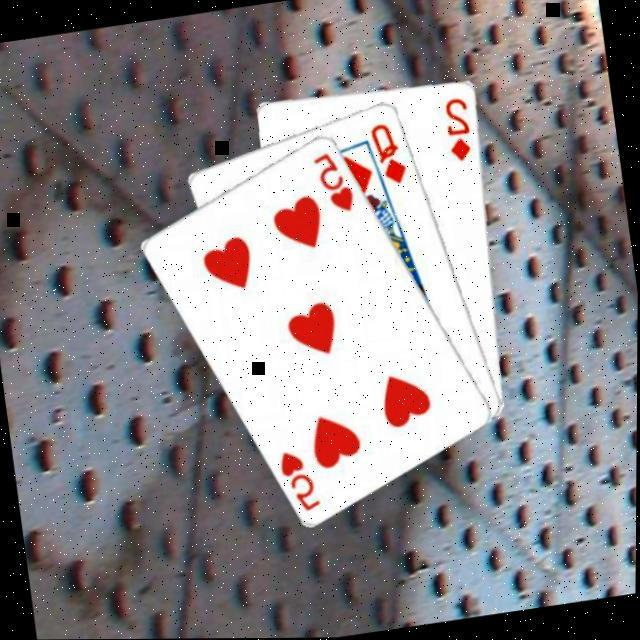2D: (443, 94, 480, 165)
5H: (311, 146, 362, 219), (277, 444, 328, 517)
QD: (368, 118, 415, 191)
